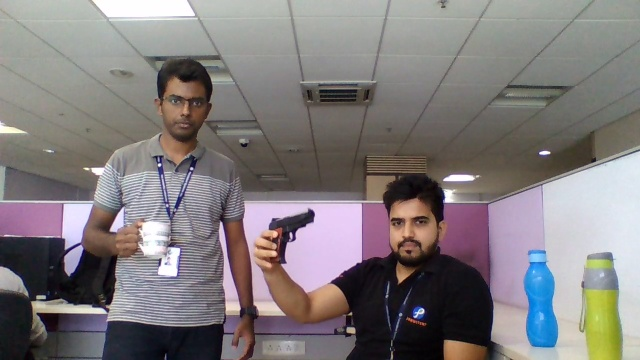gun: (280, 208, 316, 264)
